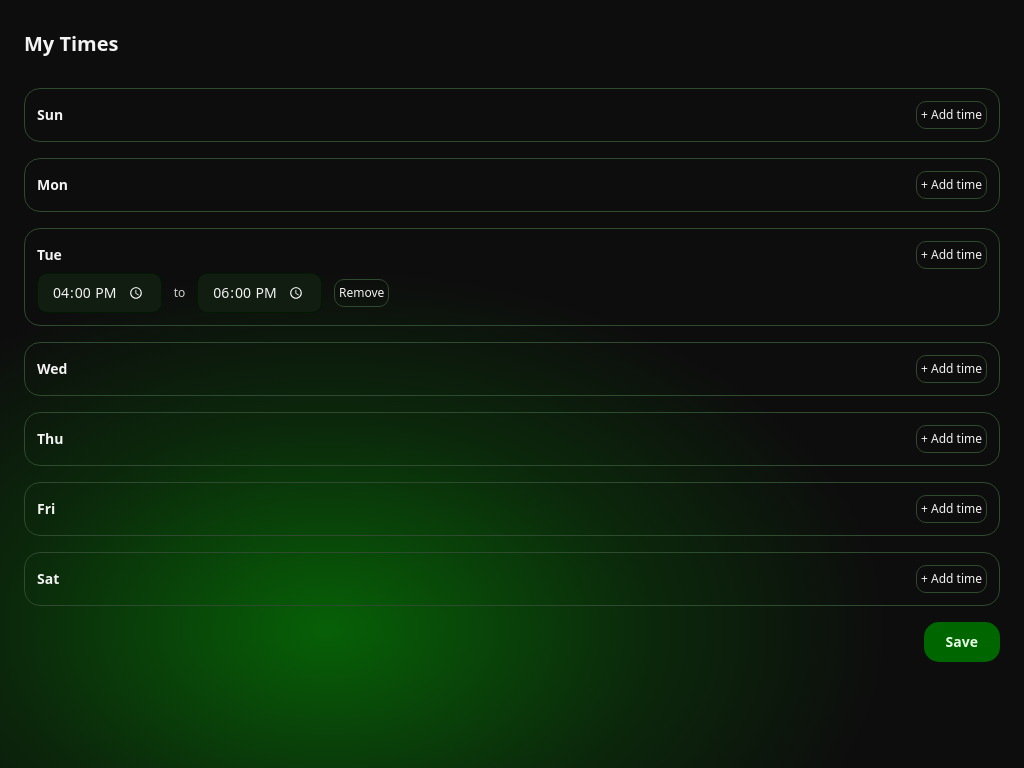
Test case: MyTimesPage (coach) › saves edits via PUT /coaches/:id/availability and shows a success message
Replace the text in the time field named "tue start" with "15:00": [99, 293] box [37, 273, 162, 313]
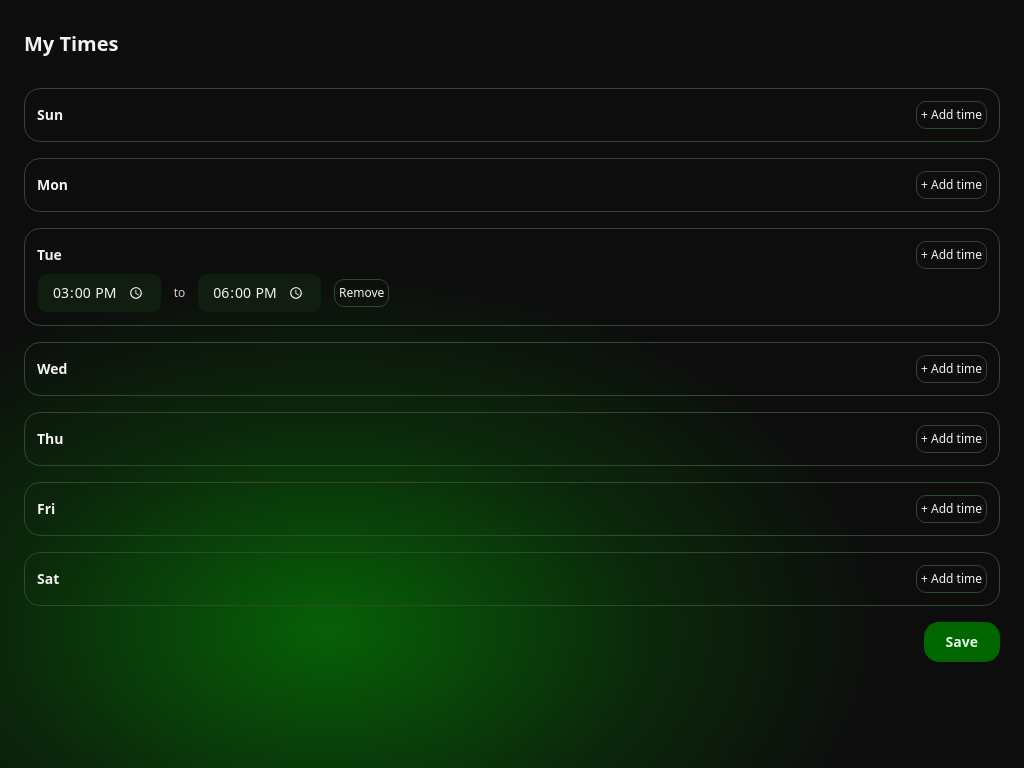
Click the button "Save": [962, 642] box [924, 622, 1000, 662]
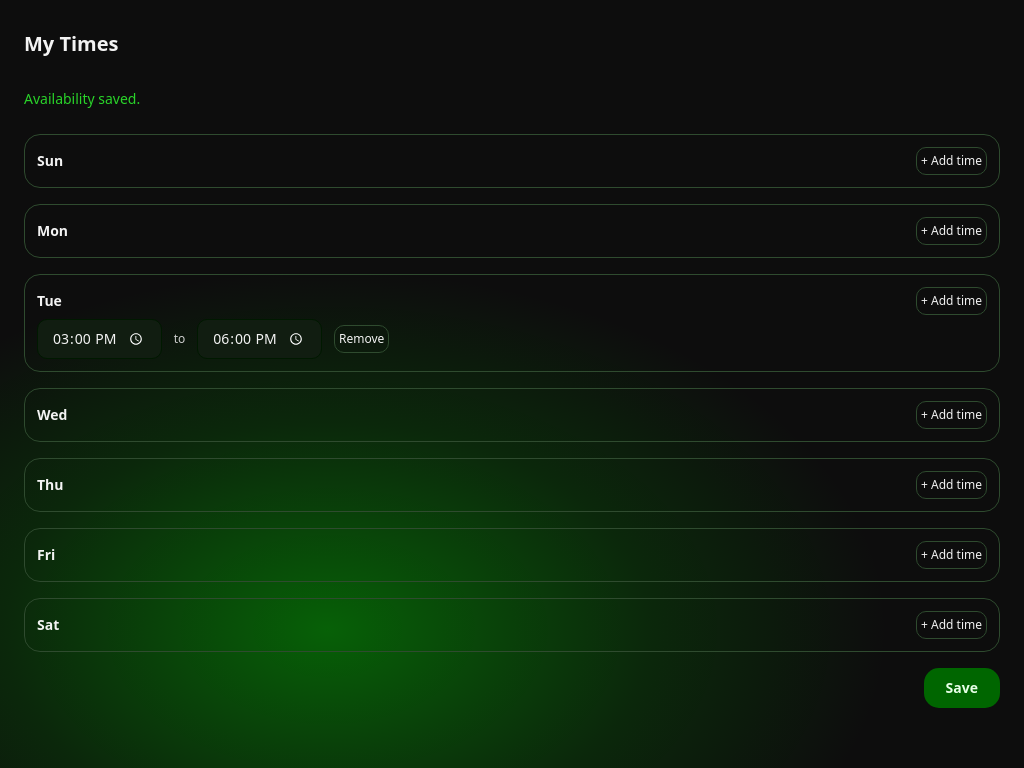
Now the message shows "saved", box [24, 89, 140, 108]
